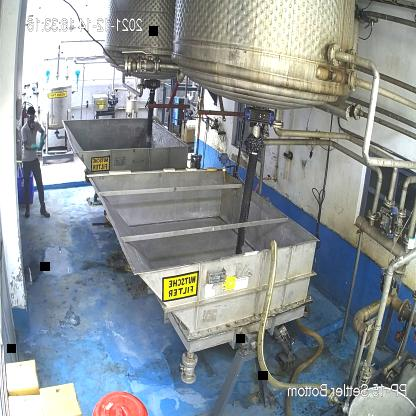goggles: (26, 112, 37, 122)
mask: (27, 118, 36, 130)
